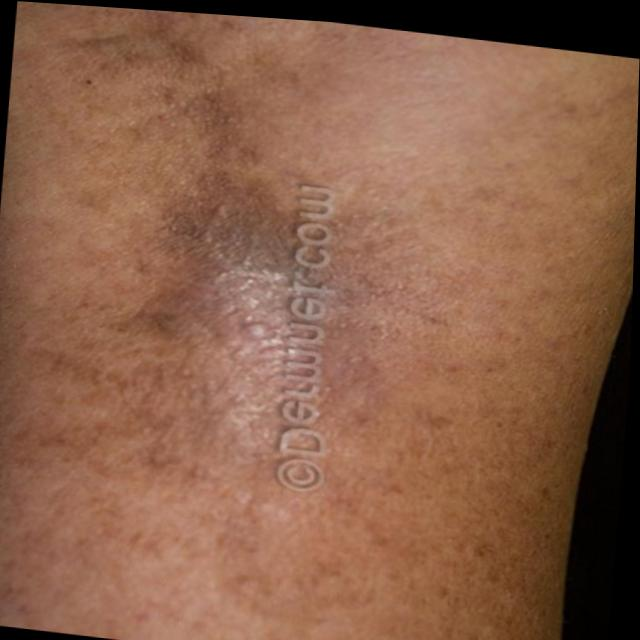Eczema: (78, 17, 554, 626)
